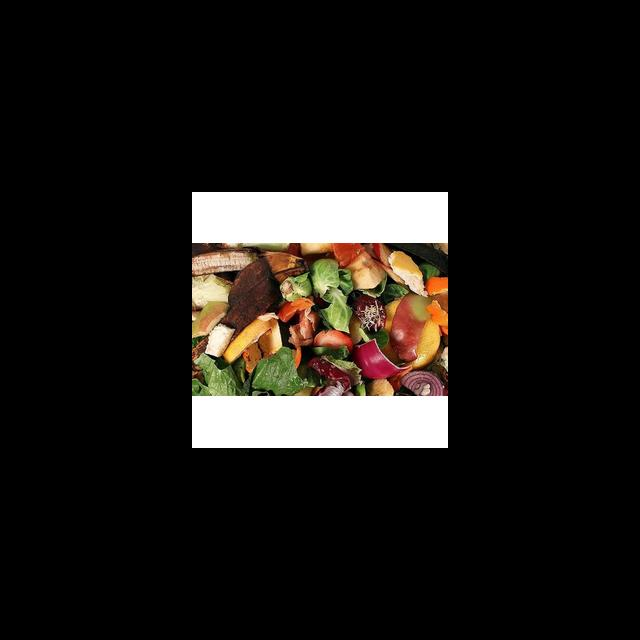food_waste: (192, 279, 356, 409), (192, 240, 288, 289), (202, 317, 296, 366), (311, 243, 361, 335), (303, 345, 362, 417), (383, 285, 437, 357), (342, 329, 405, 386), (252, 348, 307, 399), (386, 243, 426, 295), (392, 361, 443, 395)
